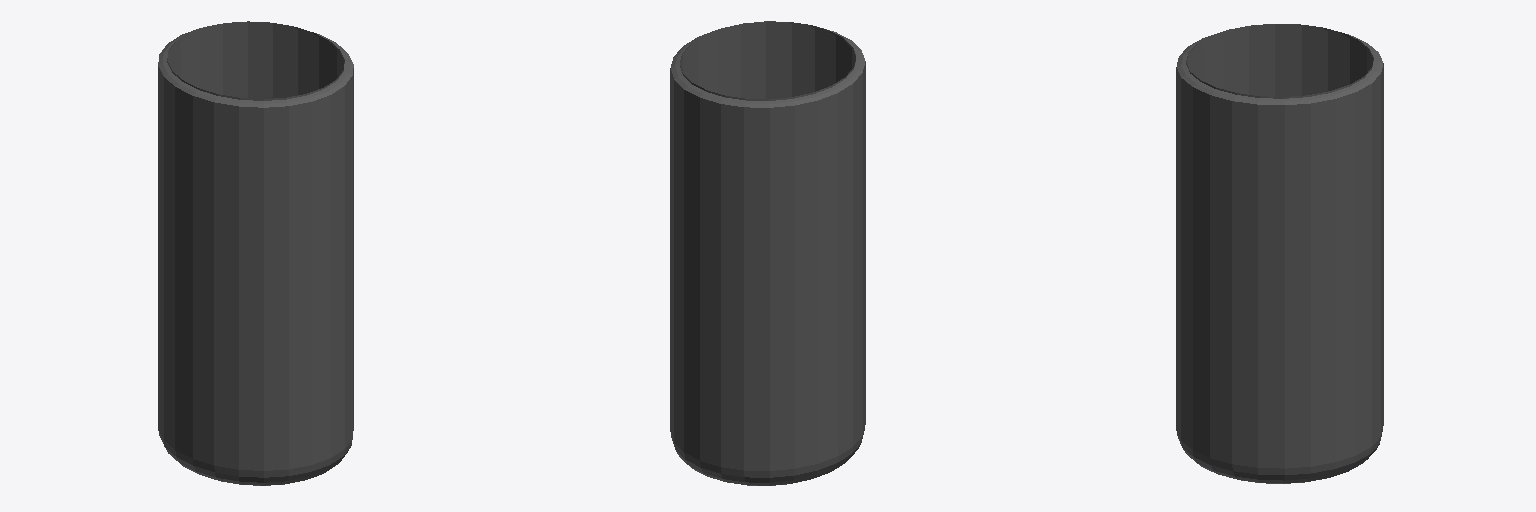
File: original-45.obj
3 renders of one model, left to right at view 1: azimuth 30°, elevation 25°; view 2: azimuth 150°, elevation 25°; view 3: azimuth 270°, elevation 25°, orthographic.
Visible parts, largest first — view 1: #ID276; view 2: #ID276; view 3: #ID276.
Boxes of the visible parts, <box> form: #ID276: <box>158,21,353,485</box>; #ID276: <box>670,21,865,485</box>; #ID276: <box>1176,24,1383,483</box>.
Size of the model in its own units: 0.0098 by 0.022 by 0.0106.